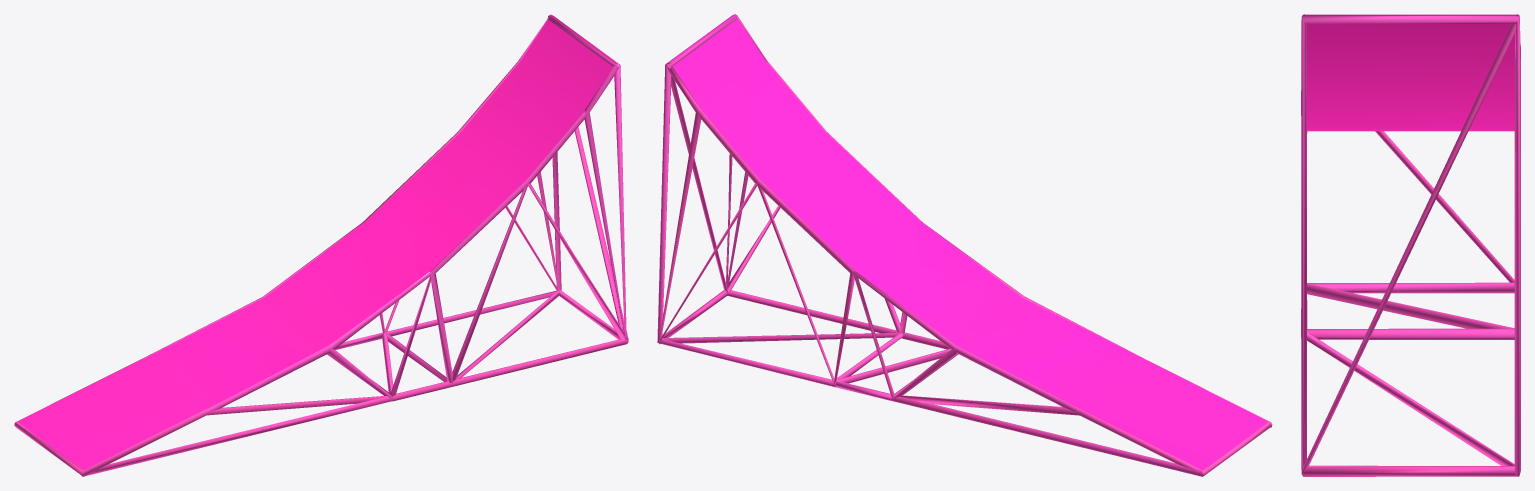
File: DirtBikeTrackJumpRampPink.glb
The picture shows the model from 3 angles, left to right: view 1: azimuth 30°, elevation 25°; view 2: azimuth 150°, elevation 25°; view 3: azimuth 270°, elevation 25°; orthographic projection. The views are drawn at different scales.
Parts seen in each view (by area): view 1: DirtBikeTrackJumpRampPink; view 2: DirtBikeTrackJumpRampPink; view 3: DirtBikeTrackJumpRampPink.
Part boxes in pixels (bbox=[...]): DirtBikeTrackJumpRampPink: bbox=[14, 14, 628, 476]; DirtBikeTrackJumpRampPink: bbox=[657, 14, 1272, 476]; DirtBikeTrackJumpRampPink: bbox=[1301, 14, 1520, 476].
Size of the model in its own units: 7.55 by 3.74 by 1.63.
Materials: 1 (1 with a texture image).
